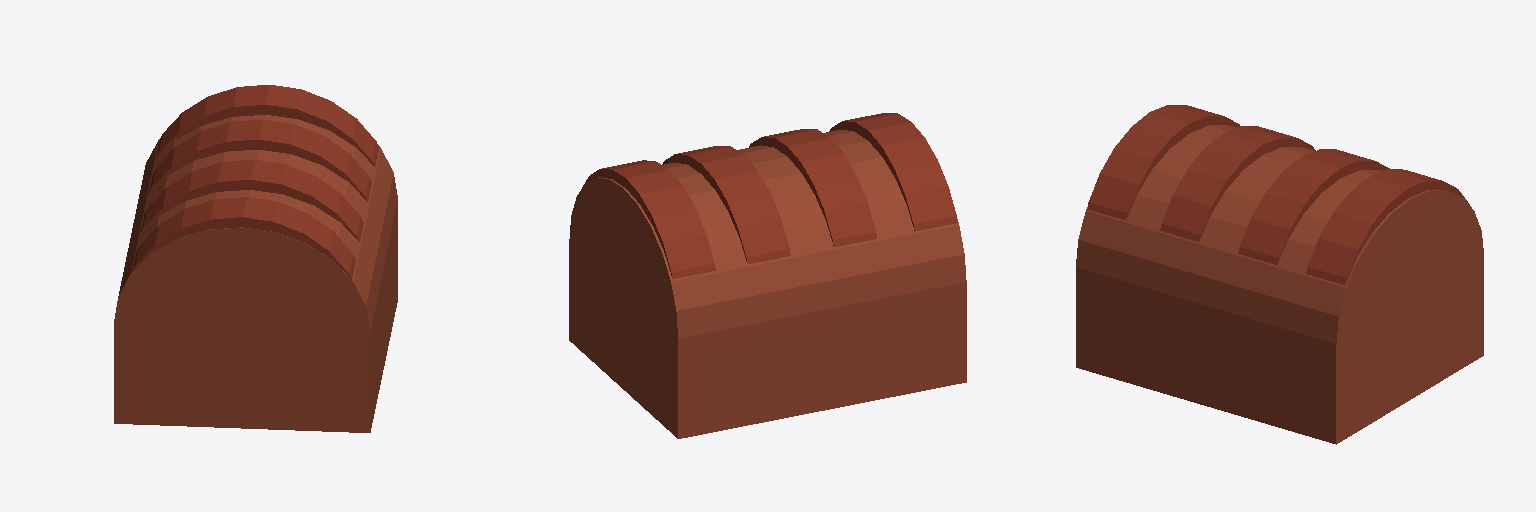
Rendered from Bread.obj.
3 renders of one model, left to right at view 1: azimuth 30°, elevation 25°; view 2: azimuth 150°, elevation 25°; view 3: azimuth 270°, elevation 25°, orthographic.
Parts seen in each view (by area): view 1: mergedBlocks; view 2: mergedBlocks; view 3: mergedBlocks.
Part boxes in pixels (left/top/right/bottom): mergedBlocks: left=114, top=85, right=397, bottom=432; mergedBlocks: left=569, top=113, right=966, bottom=438; mergedBlocks: left=1076, top=105, right=1483, bottom=444.
Bounding box in the file's own units: 0.4609 × 0.2728 × 0.4783.